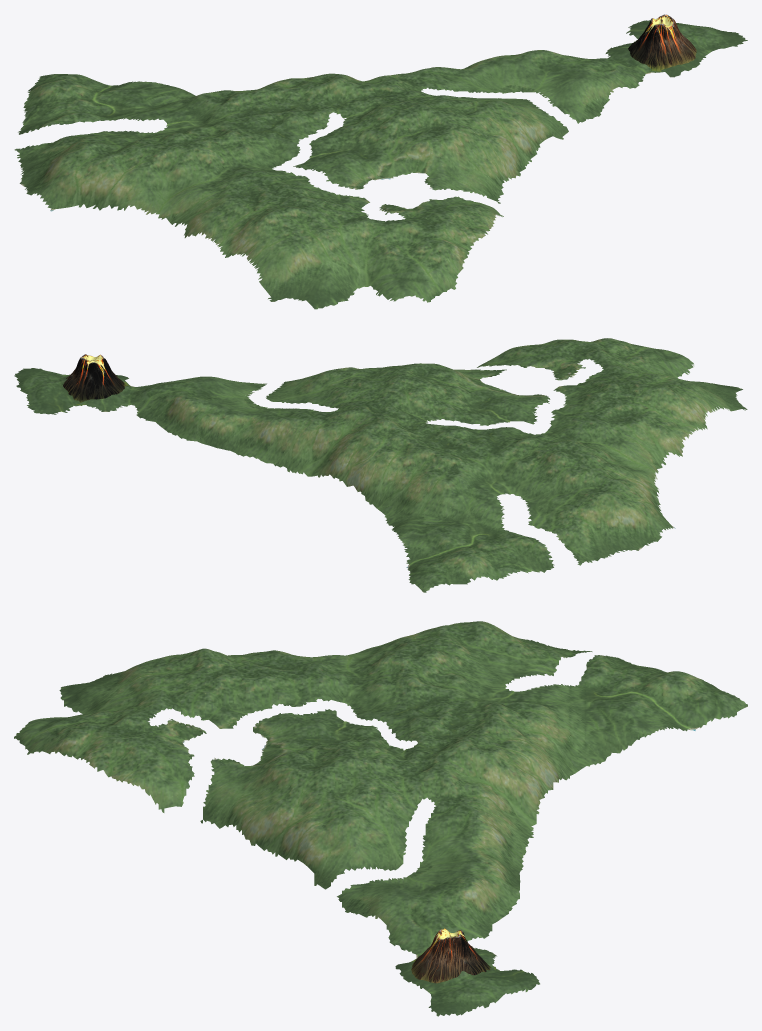
The model's file is collider.fbx.
The picture shows the model from 3 angles, top to bottom: view 1: azimuth 30°, elevation 25°; view 2: azimuth 150°, elevation 25°; view 3: azimuth 270°, elevation 25°; orthographic projection. The views are drawn at different scales.
Visible parts, largest first — view 1: Plane001; view 2: Plane001; view 3: Plane001.
Part boxes in pixels (x1,y1,x2,y2): Plane001: [14, 14, 747, 309]; Plane001: [14, 338, 747, 592]; Plane001: [14, 621, 747, 1016].
Bounding box in the file's own units: 6913 × 499 × 5615.
Materials: 2 (2 with a texture image).
